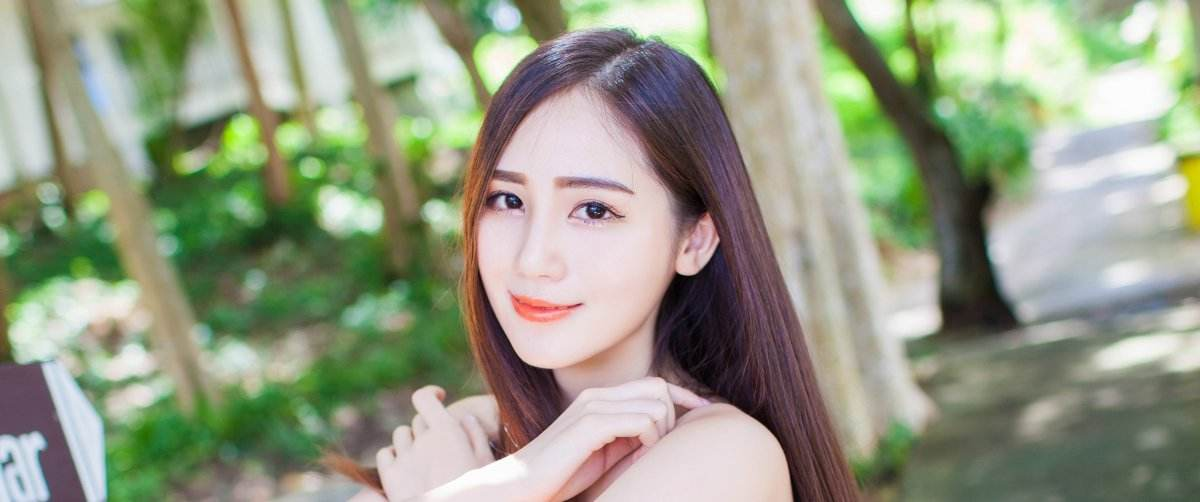person: (428, 31, 838, 502)
